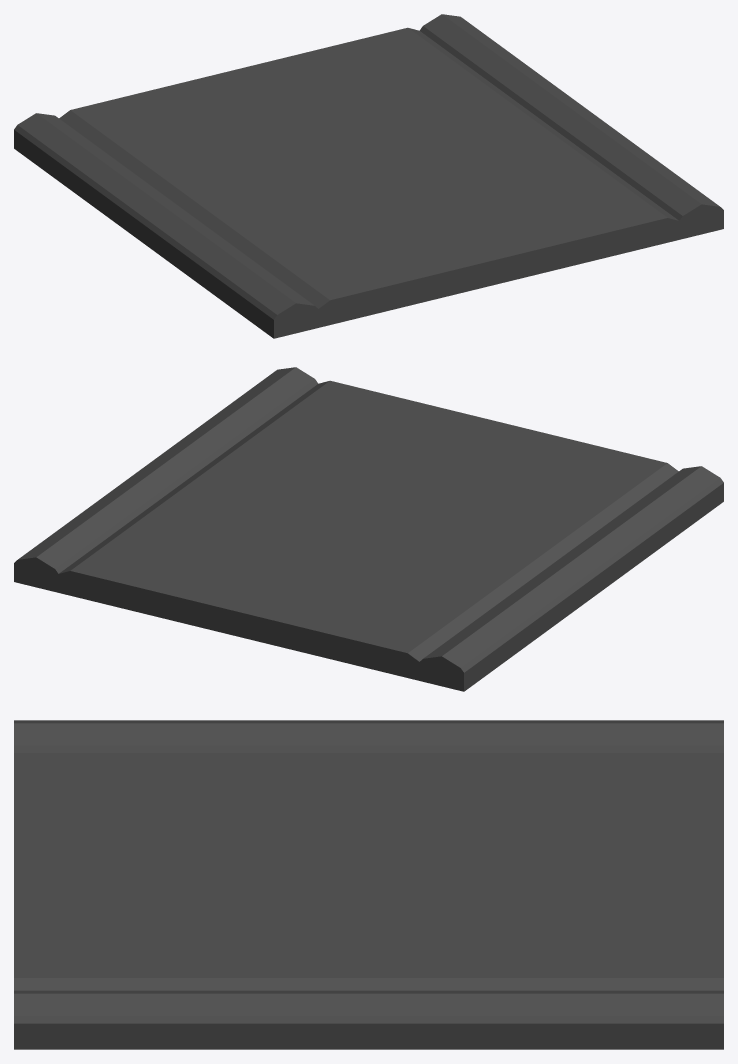
The model's file is Dock_Platform_01.fbx.
The picture shows the model from 3 angles, top to bottom: view 1: azimuth 30°, elevation 25°; view 2: azimuth 150°, elevation 25°; view 3: azimuth 270°, elevation 25°; orthographic projection. The views are drawn at different scales.
Parts seen in each view (by area): view 1: Dock_Platform_01; view 2: Dock_Platform_01; view 3: Dock_Platform_01.
Boxes of the visible parts, bbox=[...] form: Dock_Platform_01: bbox=[14, 14, 723, 338]; Dock_Platform_01: bbox=[14, 367, 723, 691]; Dock_Platform_01: bbox=[14, 720, 723, 1049].
Bounding box in the file's own units: 250 × 15.97 × 250.
